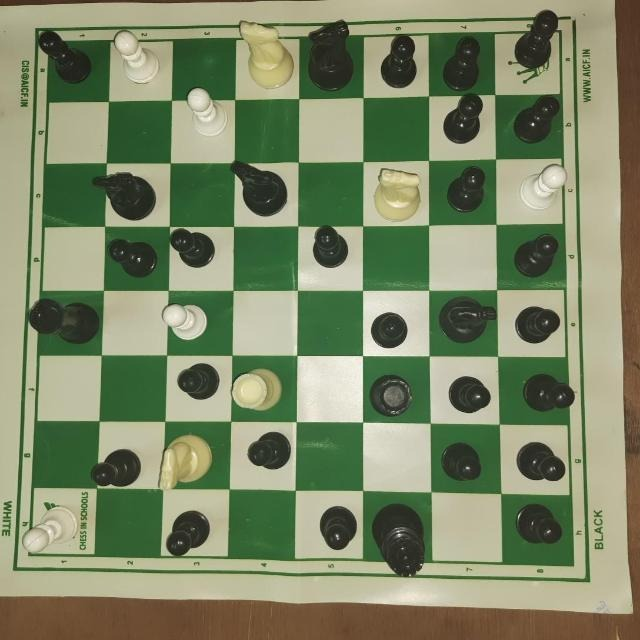black-knight: (298, 16, 356, 103), (228, 157, 298, 221), (92, 164, 162, 221), (431, 290, 501, 347)
black-pawn: (29, 23, 95, 88), (509, 6, 561, 81), (104, 227, 162, 284), (508, 435, 570, 487), (432, 32, 482, 96), (162, 503, 210, 569), (508, 94, 562, 152), (438, 161, 492, 218), (513, 368, 574, 418), (309, 497, 359, 558), (165, 226, 225, 275), (505, 499, 565, 548), (376, 33, 425, 91), (86, 444, 143, 490), (302, 222, 354, 272), (438, 94, 485, 148), (511, 232, 561, 282), (238, 427, 293, 472), (511, 303, 561, 350), (174, 359, 224, 406), (438, 440, 489, 484), (365, 306, 416, 349), (446, 375, 492, 416)
black-queen: (365, 494, 426, 580)
black-rook: (24, 294, 104, 346), (364, 362, 420, 420)
white-knight: (234, 18, 296, 96), (153, 427, 220, 491), (364, 161, 426, 229)
white-pawn: (18, 504, 84, 564), (106, 27, 161, 88), (151, 295, 218, 345), (177, 82, 229, 140), (516, 161, 571, 215)
white-rook: (225, 362, 286, 417)
